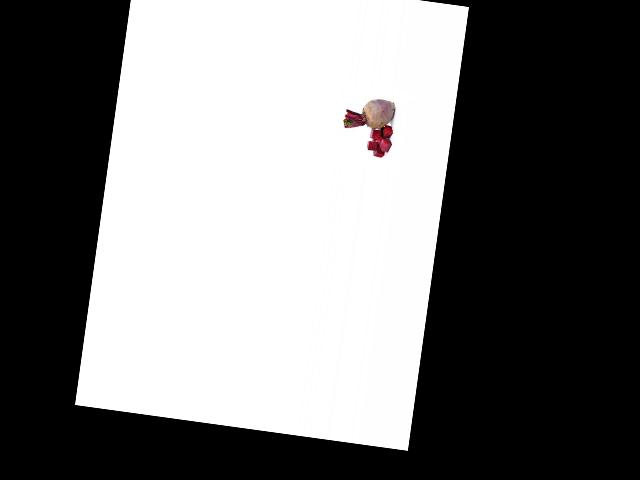beet: (343, 95, 396, 134)
